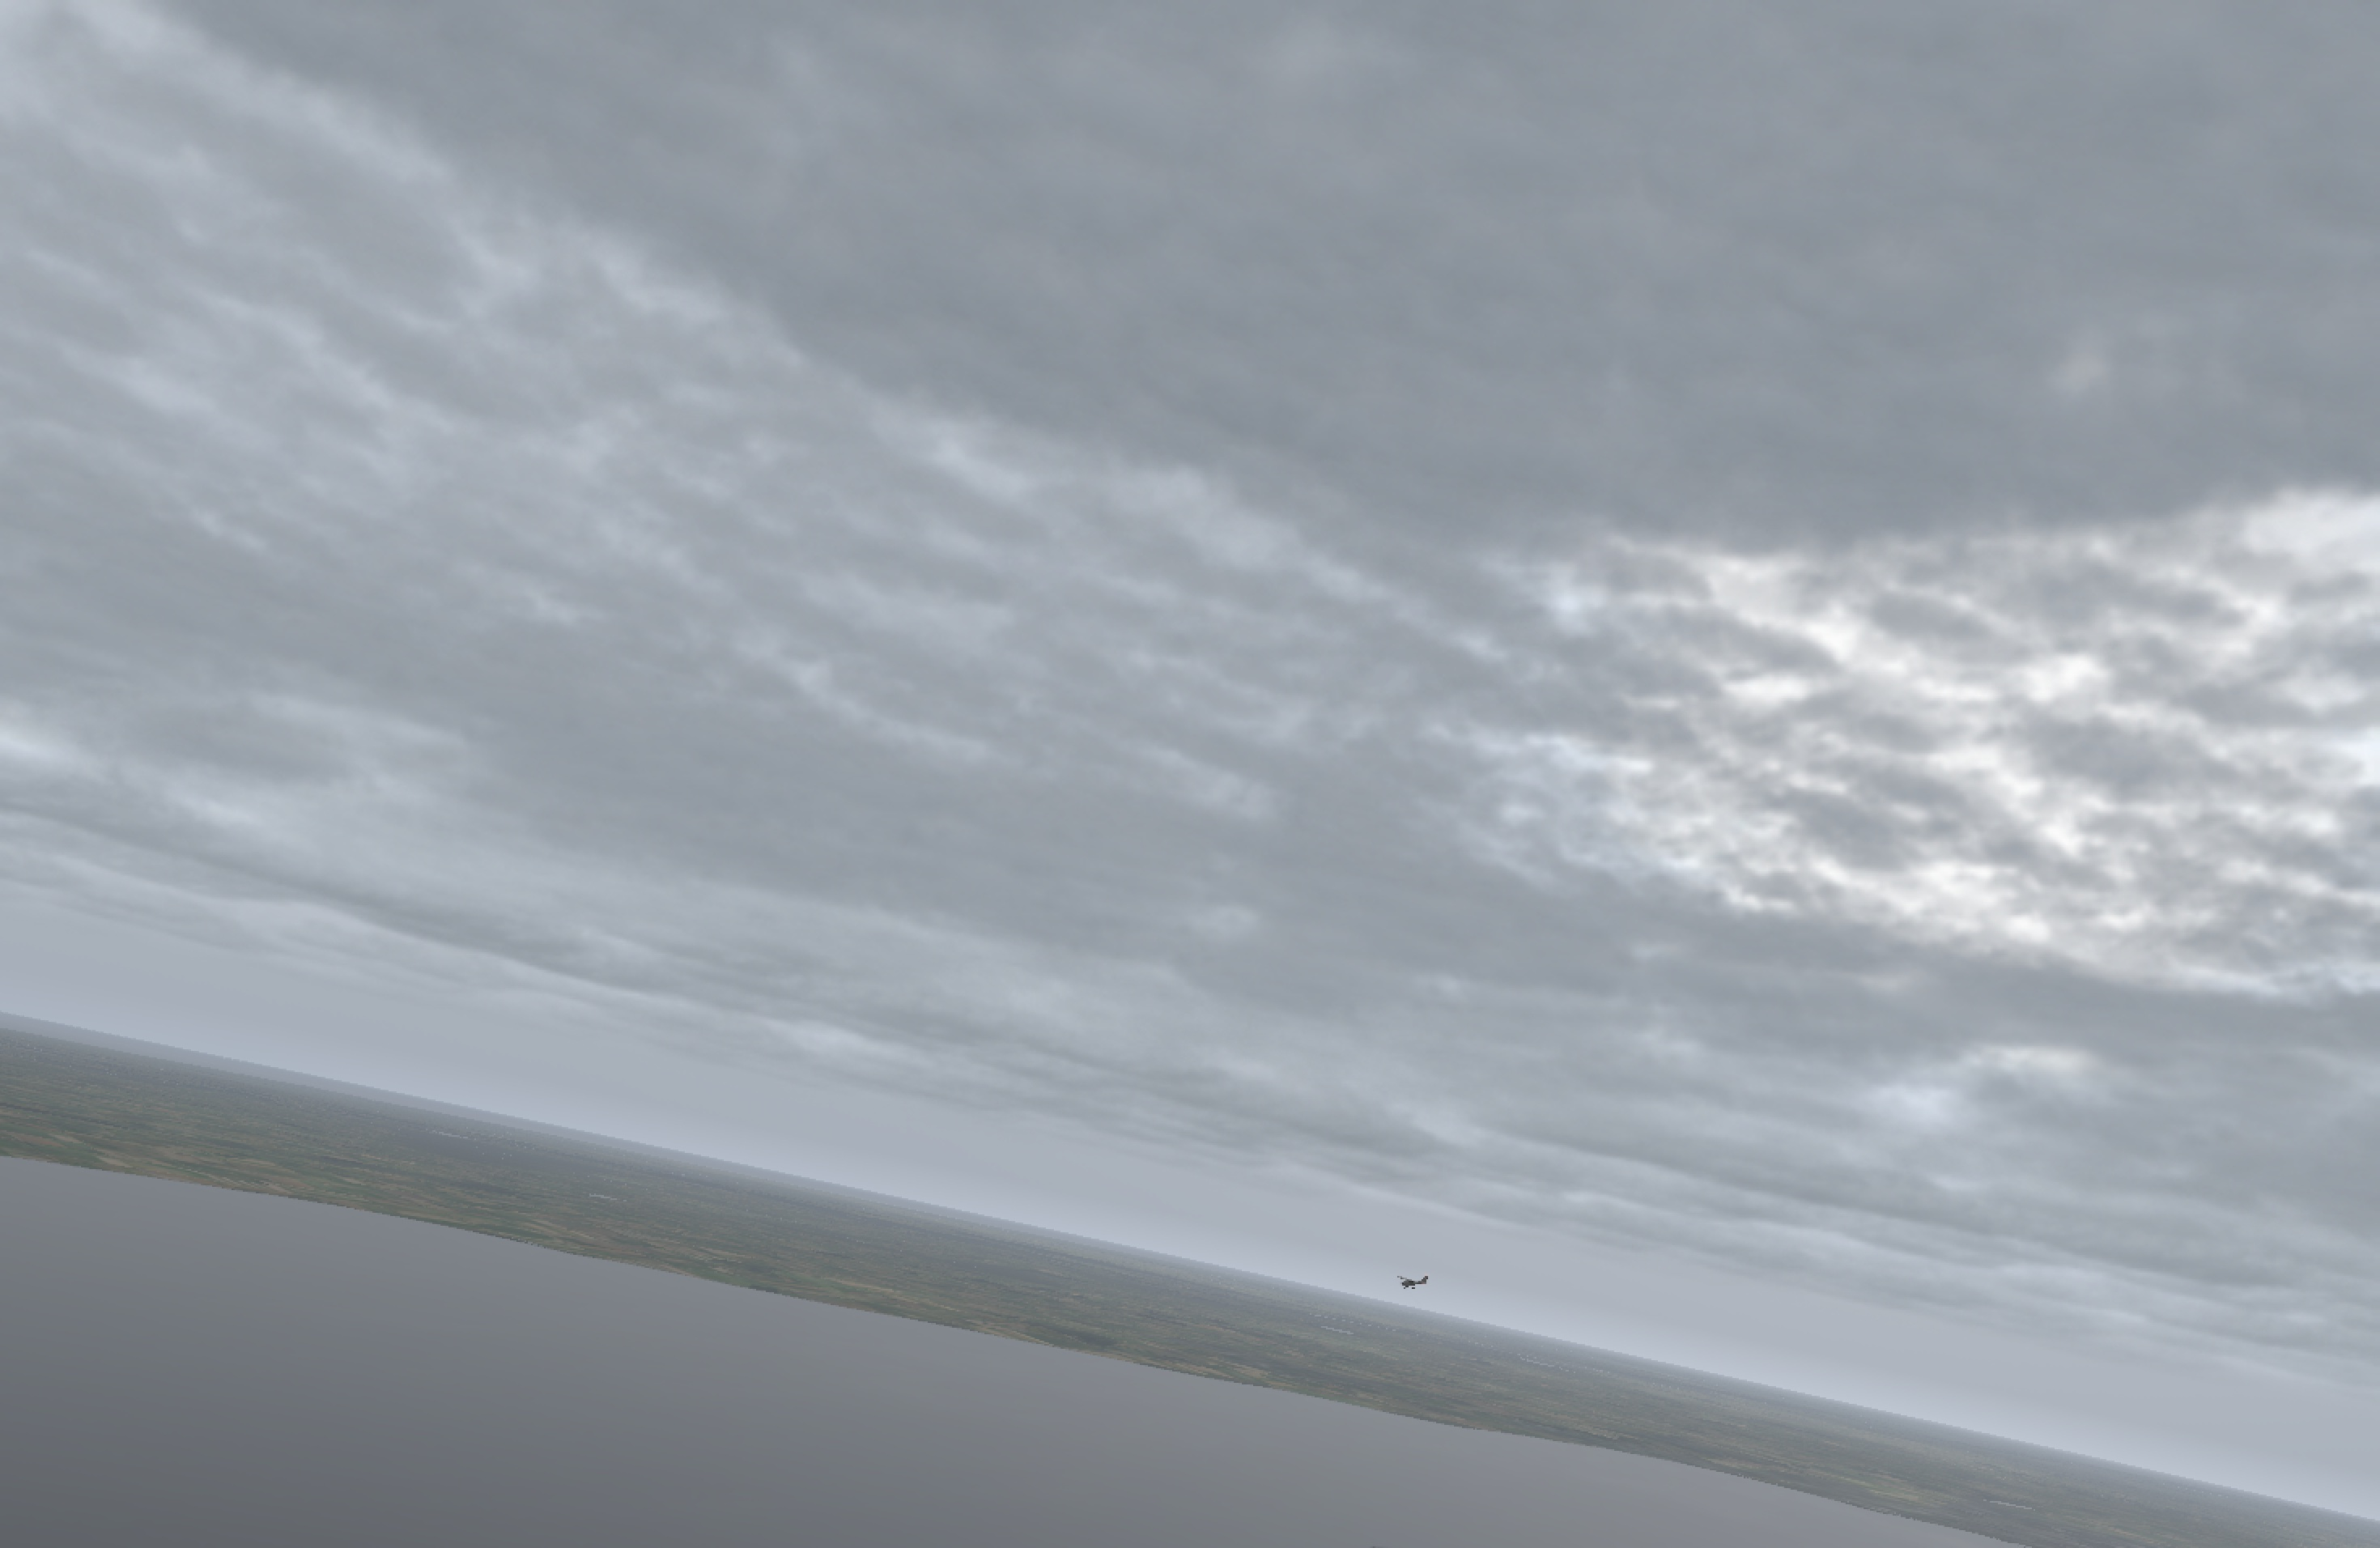aircraft: (1393, 1277, 1426, 1289)
